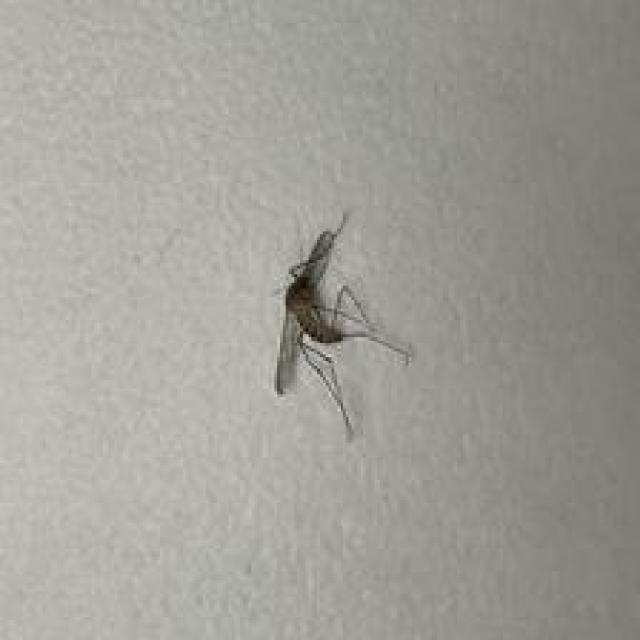Culex: (272, 210, 414, 441)
